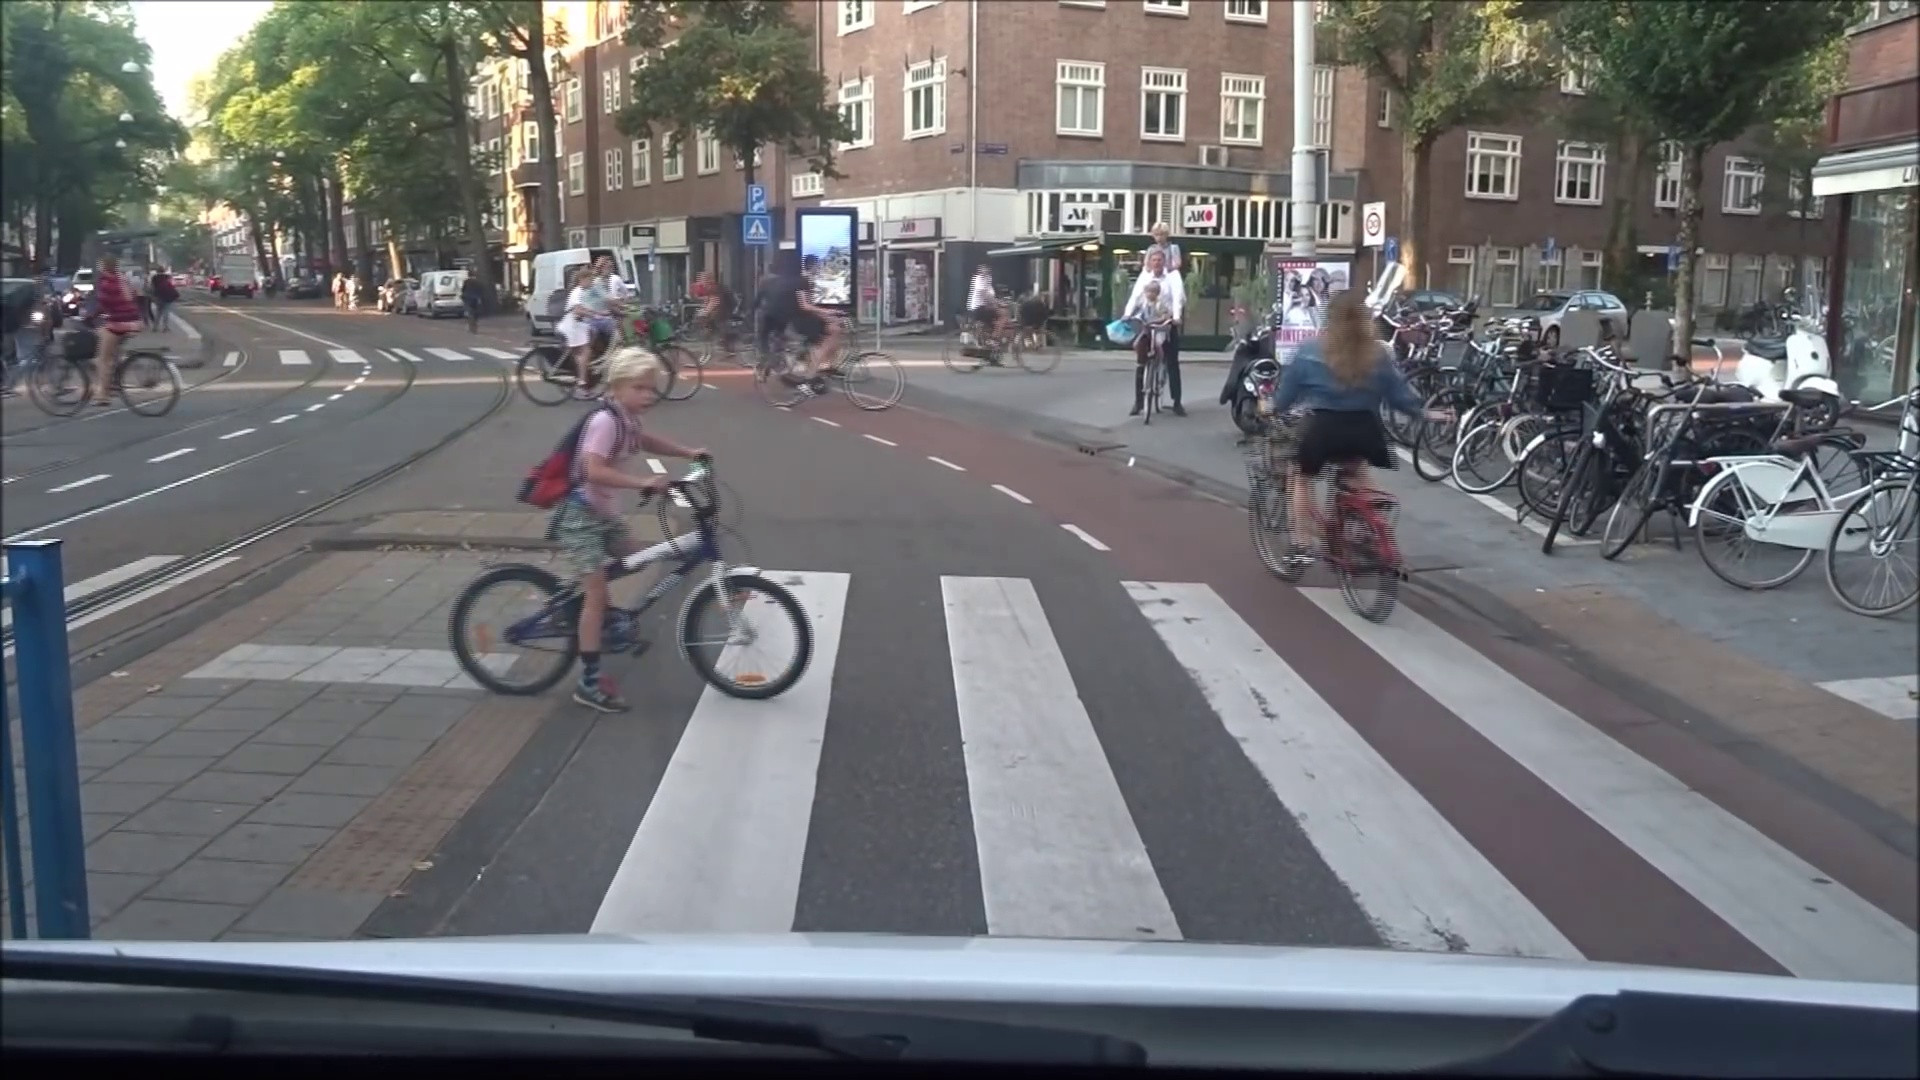cyclist_back: (1242, 276, 1425, 644)
cyclist_front: (1119, 250, 1194, 430)
cyclist_side: (438, 341, 814, 712), (30, 262, 190, 418), (761, 261, 913, 402), (518, 267, 670, 408), (947, 255, 1068, 378)
